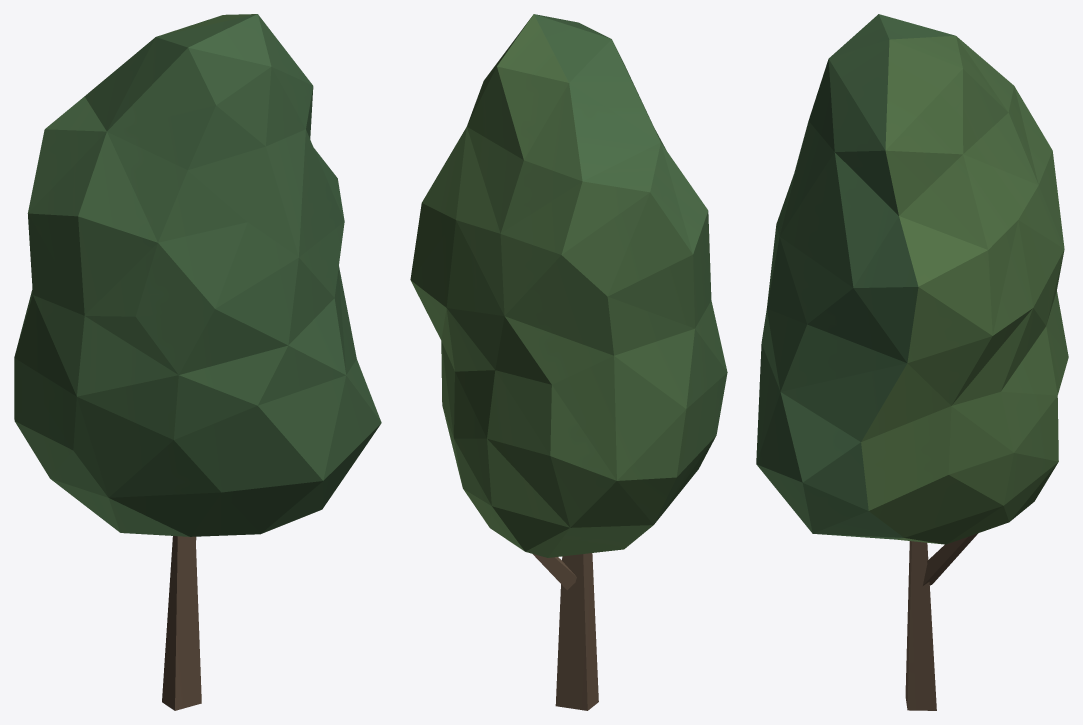
The model's file is beech_small.gltf.
3 views of the same model, side by side, from view 1: azimuth 30°, elevation 25°; view 2: azimuth 150°, elevation 25°; view 3: azimuth 270°, elevation 25° (orthographic). The views are drawn at different scales.
Parts seen in each view (by area): view 1: tree-beech; view 2: tree-beech; view 3: tree-beech.
Part boxes in pixels (x1,y1,x2,y2): tree-beech: [14, 14, 381, 710]; tree-beech: [410, 14, 727, 710]; tree-beech: [756, 14, 1068, 710].
Size of the model in its own units: 0.4356 by 0.9671 by 0.3946.
Materials: 1 (1 with a texture image).
